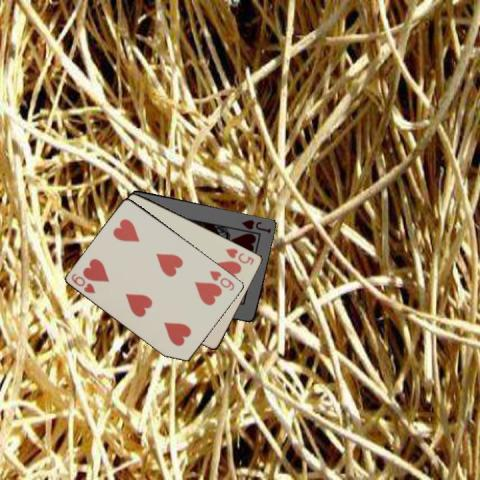5h: (222, 245, 256, 267)
6h: (207, 267, 236, 293), (68, 270, 96, 295)
Jh: (239, 216, 272, 234)
